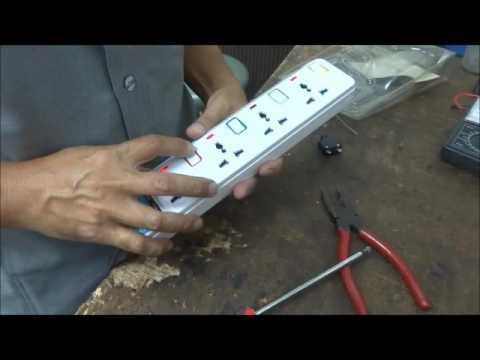Three_eye_plug: (124, 55, 361, 214)
